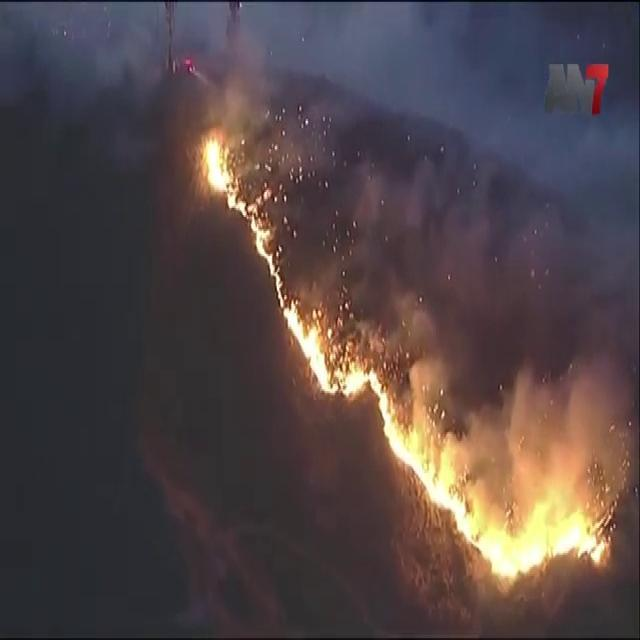Fire: (337, 369, 603, 582), (200, 142, 285, 308), (287, 309, 334, 396), (201, 133, 243, 199), (260, 247, 284, 309), (618, 423, 632, 455), (296, 112, 312, 137), (597, 538, 611, 562), (296, 164, 308, 184), (259, 173, 268, 199), (438, 400, 446, 427), (382, 354, 392, 372), (312, 304, 320, 324), (339, 352, 350, 364), (336, 315, 345, 329)
Smoke: (7, 11, 632, 606), (351, 135, 624, 320), (0, 23, 165, 201)
